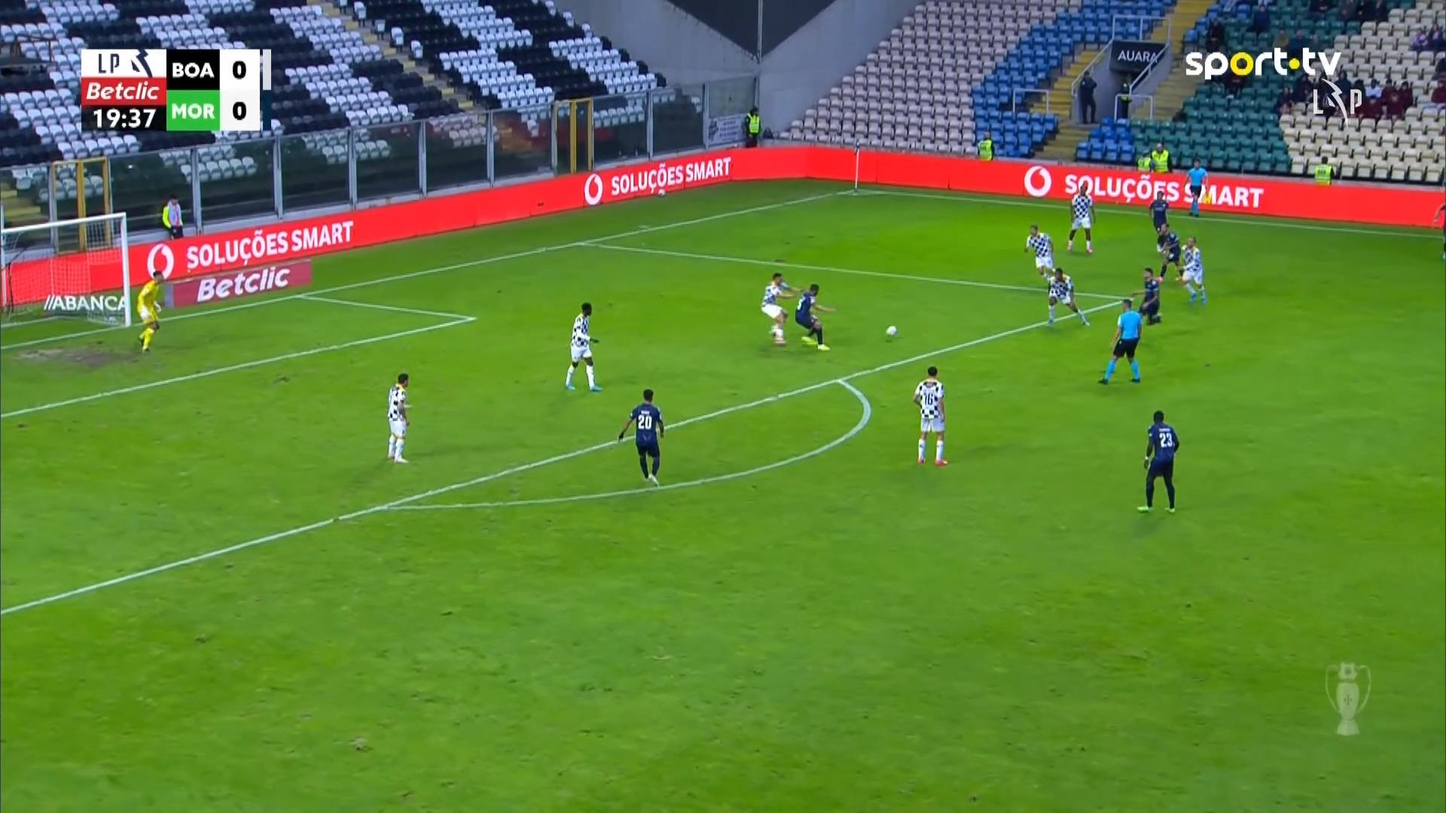ball: (886, 325, 897, 336)
goalkeeper: (136, 268, 165, 352)
player: (617, 388, 665, 486), (1136, 409, 1179, 513), (912, 365, 948, 465), (564, 301, 602, 391), (760, 272, 800, 346), (794, 282, 836, 350), (1044, 266, 1090, 327), (386, 372, 411, 463), (1066, 182, 1096, 254), (1175, 236, 1207, 303), (1024, 223, 1054, 282), (1155, 222, 1183, 281), (1135, 266, 1163, 324), (1148, 189, 1169, 234), (1432, 202, 1445, 260)
referee: (1097, 297, 1142, 384), (1183, 157, 1208, 217)
